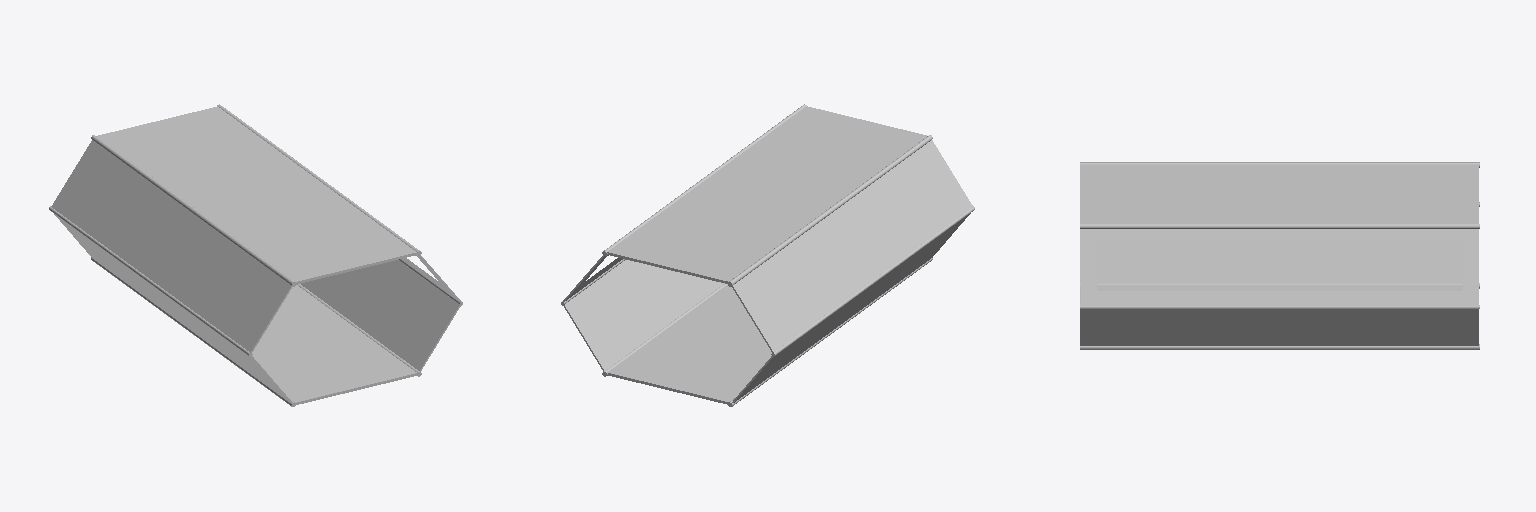
Rendered from Docker.obj.
The picture shows the model from 3 angles: view 1: azimuth 30°, elevation 25°; view 2: azimuth 150°, elevation 25°; view 3: azimuth 270°, elevation 25°; orthographic projection.
Parts seen in each view (by area): view 1: Cube; view 2: Cube; view 3: Cube.
Part boxes in pixels (left/top/right/bottom): Cube: left=49, top=104, right=462, bottom=406; Cube: left=561, top=104, right=974, bottom=406; Cube: left=1080, top=162, right=1479, bottom=349.
Size of the model in its own units: 50.12 by 28.1 by 81.31.